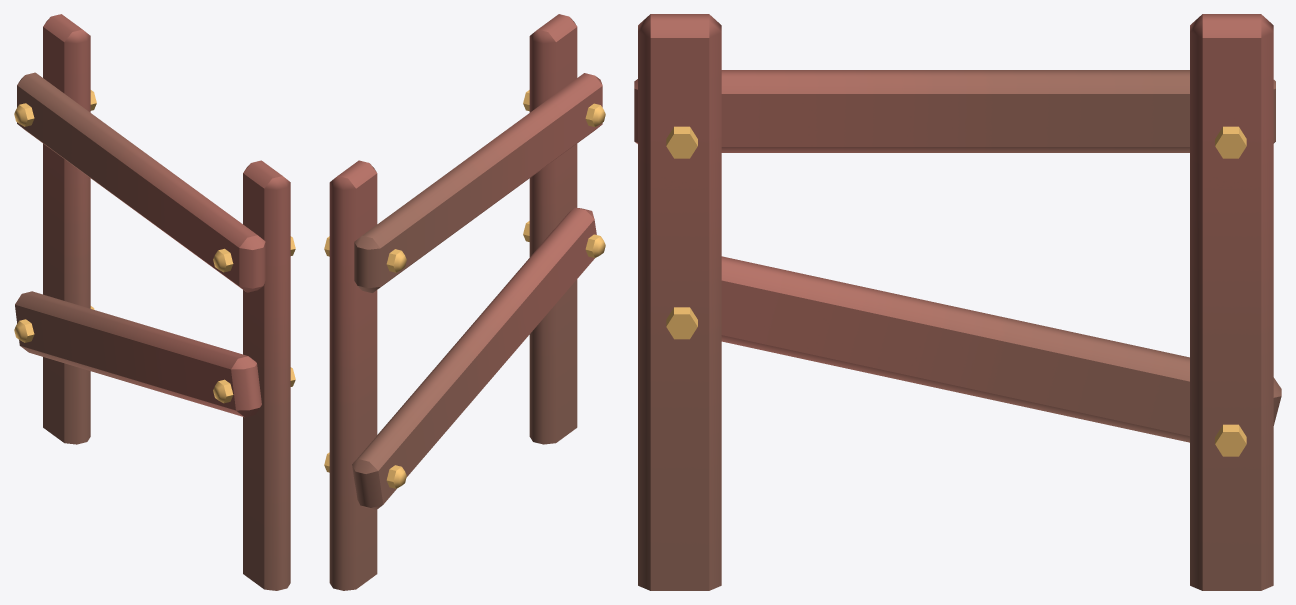
Rendered from Fence_Mesh_04.fbx.
3 views of the same model, side by side, from view 1: azimuth 30°, elevation 25°; view 2: azimuth 150°, elevation 25°; view 3: azimuth 270°, elevation 25° (orthographic). The views are drawn at different scales.
Parts seen in each view (by area): view 1: Fence_04; view 2: Fence_04; view 3: Fence_04.
Boxes of the visible parts, left/top/right/bottom form: Fence_04: left=14, top=14, right=295, bottom=590; Fence_04: left=324, top=14, right=605, bottom=590; Fence_04: left=634, top=14, right=1281, bottom=590.
Bounding box in the file's own units: 0.2959 × 1.58 × 1.64.
